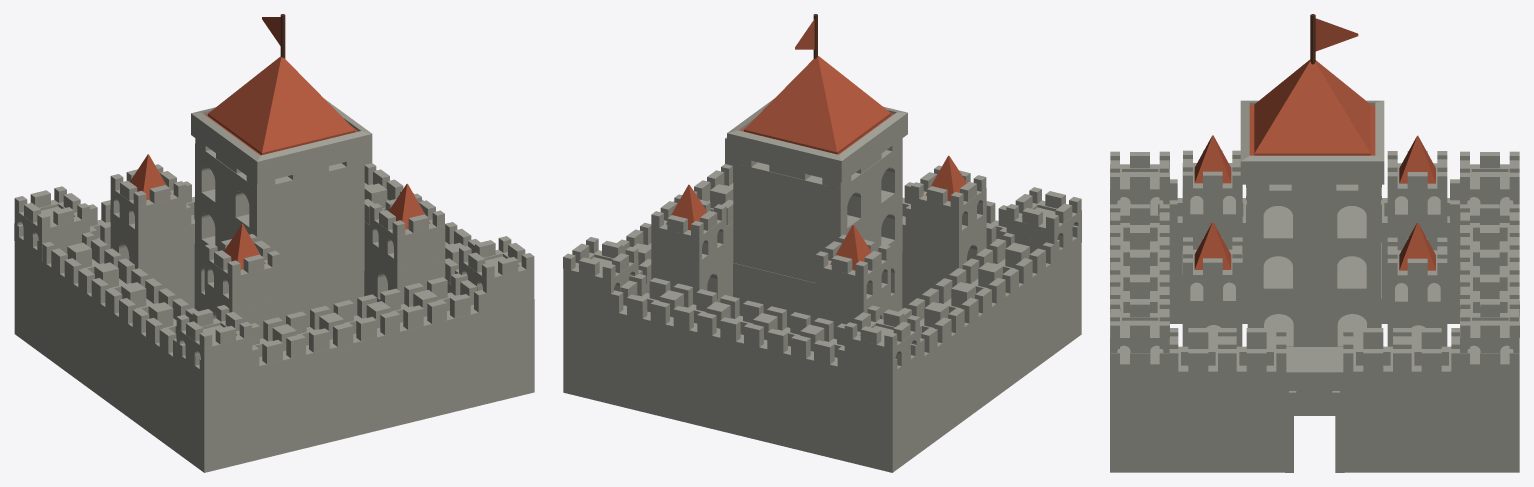
Rendered from zamek.fbx.
3 views of the same model, side by side, from view 1: azimuth 30°, elevation 25°; view 2: azimuth 150°, elevation 25°; view 3: azimuth 270°, elevation 25° (orthographic). The views are drawn at different scales.
Parts seen in each view (by area): view 1: Cube.143; view 2: Cube.143; view 3: Cube.143.
Part boxes in pixels (box(x1,y1,x2,y2)): Cube.143: box(14, 14, 534, 472); Cube.143: box(563, 14, 1081, 472); Cube.143: box(1110, 14, 1519, 472).
Size of the model in its own units: 604 by 607 by 602.
